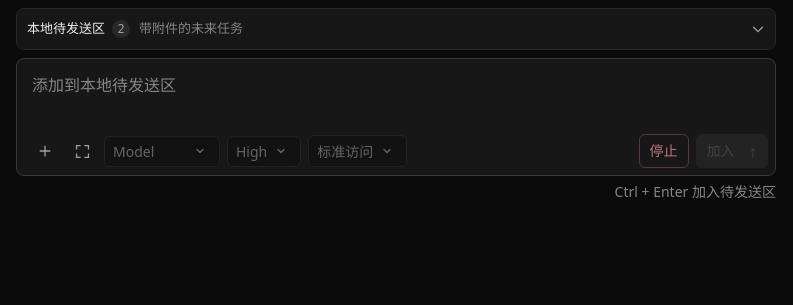
Test case: ComposerPanel options › disables steer and follow-up for items with attachments and supports reordering
This screenshot has width=793, height=305.
Click the button with class "local-queue-toggle".
click(66, 28)  # box 17,10 -> 775,48
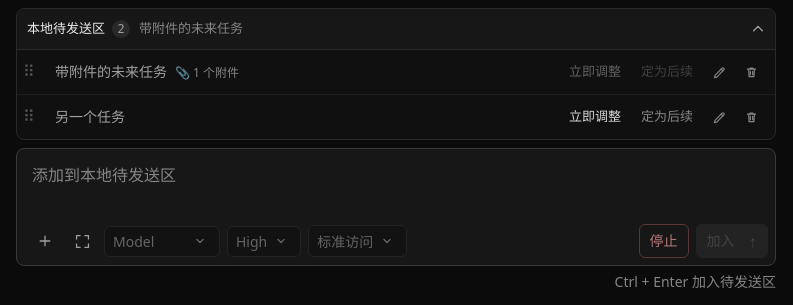
Expected: the button "立即调整" in the row of "📎 1 个附件" is disabled, 561,58 -> 629,86
Expected: the button "定为后续" in the row of "📎 1 个附件" is disabled, 633,58 -> 701,86
Expected: the list item with class "local-queue-item" shows "1 个附件", 175,64 -> 239,81
